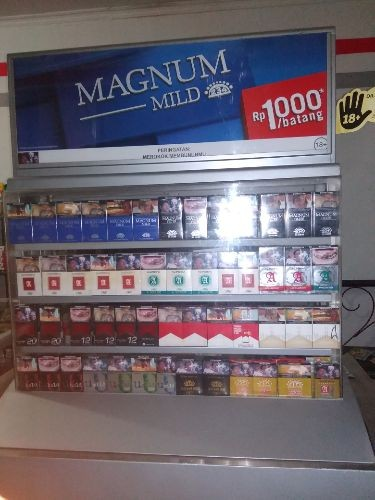A Mild: (117, 254, 140, 295), (16, 257, 40, 296), (42, 256, 65, 295), (67, 256, 90, 295), (92, 256, 114, 295)
U Mild: (132, 356, 157, 393), (84, 356, 107, 391), (108, 356, 130, 392), (158, 357, 176, 395)
